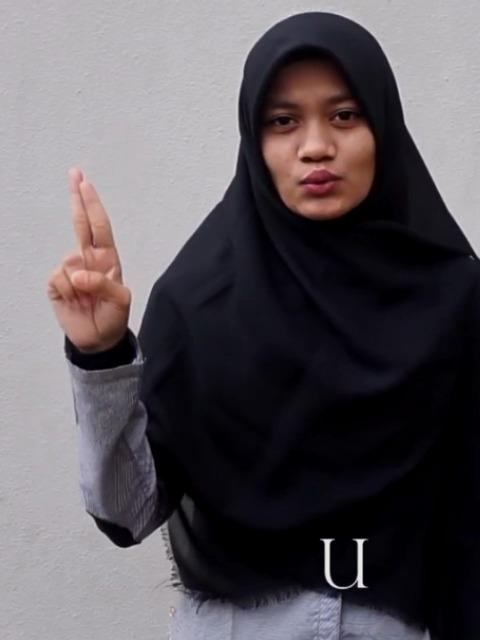U: (47, 160, 146, 358)
